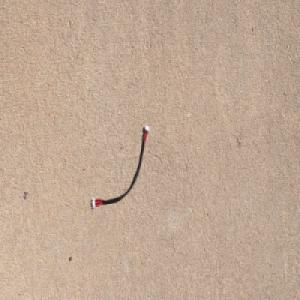Wire: (91, 123, 150, 209)
